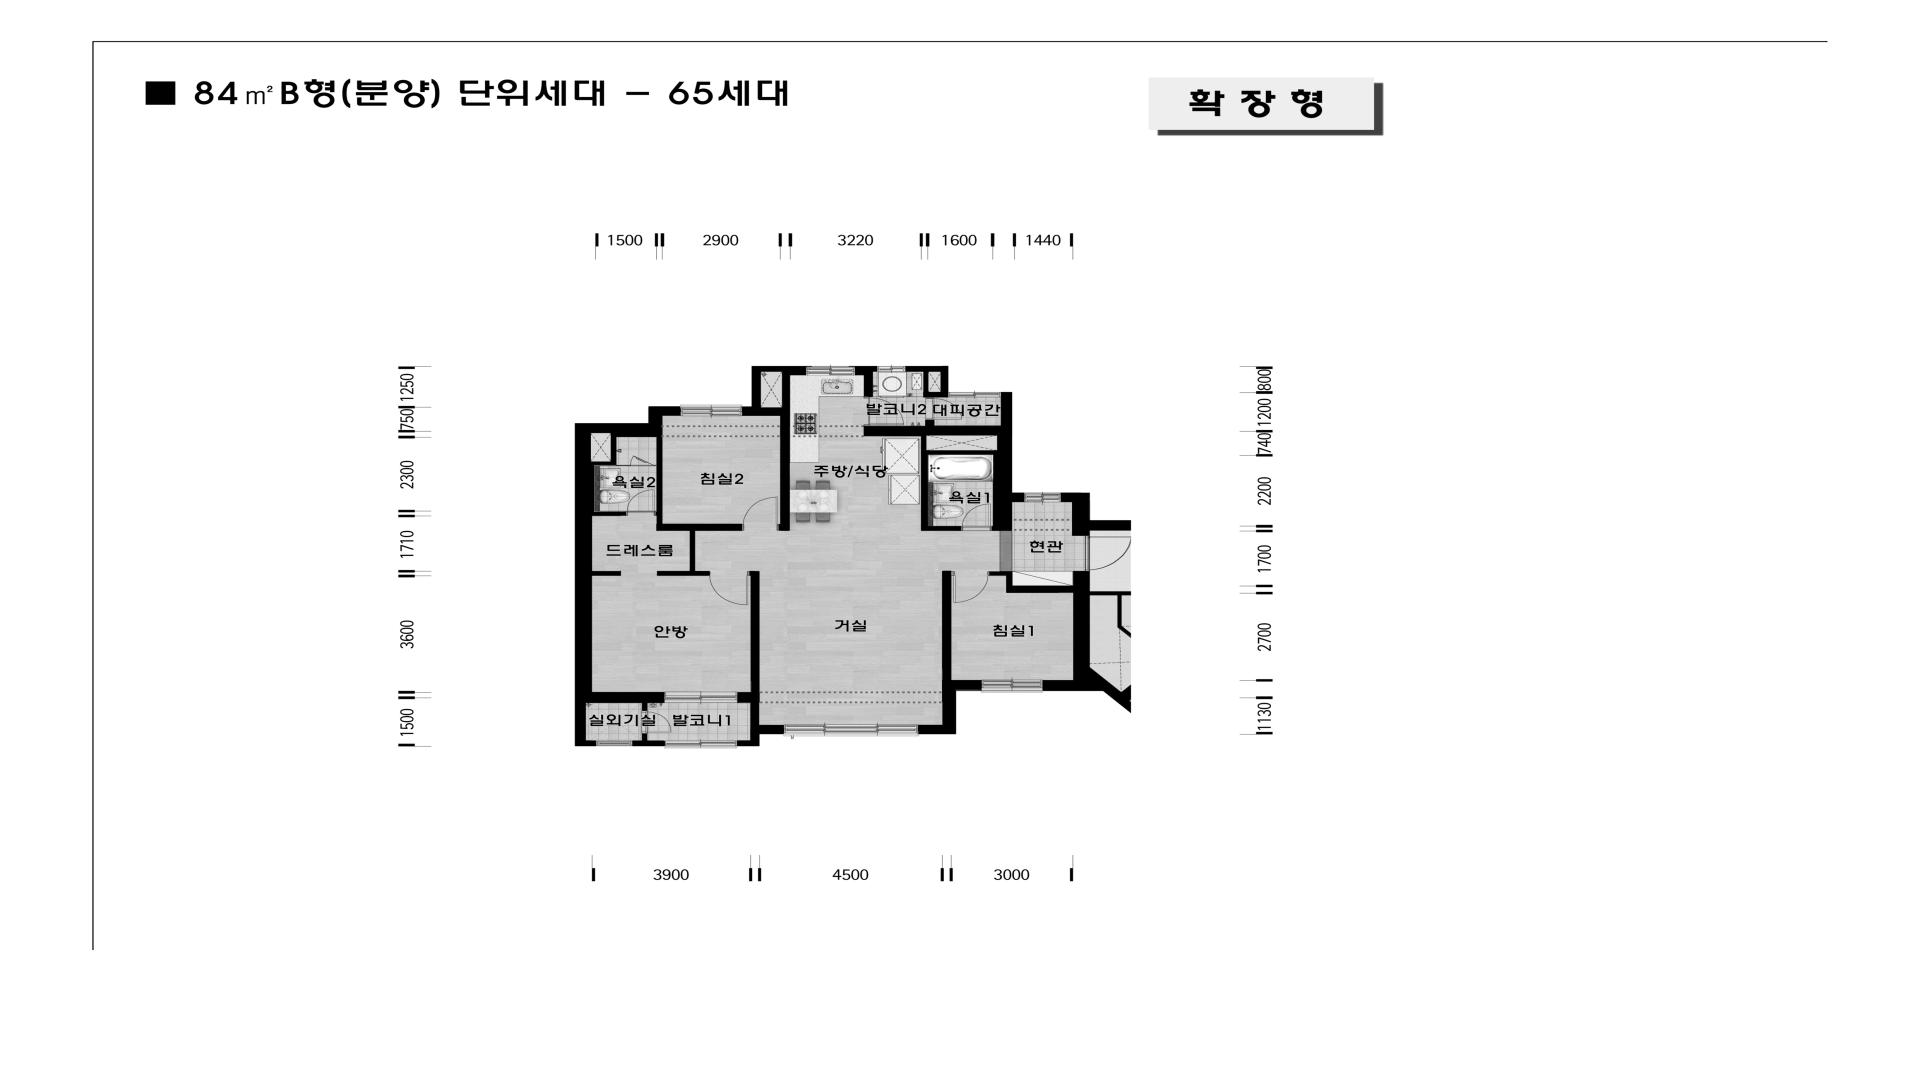door: (1085, 536, 1131, 571), (710, 571, 750, 605), (742, 497, 779, 531), (951, 571, 989, 603), (864, 397, 904, 426), (961, 503, 992, 531), (925, 398, 962, 420), (626, 489, 656, 516), (641, 711, 671, 734), (630, 455, 656, 466)
wall: (575, 433, 586, 746), (584, 433, 592, 692), (1073, 571, 1090, 691), (864, 425, 1001, 436), (1000, 392, 1012, 502), (779, 416, 790, 531), (750, 571, 760, 692), (942, 571, 951, 680), (575, 423, 663, 433), (586, 692, 664, 703), (1072, 502, 1090, 536), (992, 455, 1000, 531), (942, 691, 956, 734), (657, 437, 663, 531), (663, 524, 742, 531), (921, 455, 928, 531), (1013, 585, 1073, 593), (752, 366, 761, 416), (942, 680, 982, 691), (921, 450, 1000, 455), (1000, 502, 1012, 531), (1043, 680, 1073, 691), (750, 725, 784, 734), (782, 372, 790, 407), (761, 366, 806, 372), (657, 571, 710, 576), (905, 366, 949, 372), (761, 407, 790, 416), (1061, 493, 1090, 502), (648, 406, 663, 423), (737, 692, 760, 703), (940, 372, 949, 397), (918, 725, 942, 734), (611, 433, 663, 437), (690, 531, 695, 571), (750, 703, 759, 725), (864, 375, 873, 397), (632, 740, 664, 746), (663, 406, 680, 416), (611, 437, 617, 465), (928, 526, 961, 531), (591, 465, 594, 516), (592, 571, 621, 576), (855, 366, 877, 372), (594, 512, 626, 516), (923, 372, 928, 397), (989, 571, 1013, 576), (750, 734, 760, 746), (1006, 576, 1013, 593), (1012, 493, 1024, 502), (742, 406, 752, 416), (921, 436, 927, 450), (591, 461, 611, 465), (737, 740, 750, 746), (928, 392, 940, 397), (925, 420, 935, 426), (586, 740, 596, 746), (997, 436, 1001, 450), (855, 372, 873, 375), (642, 703, 648, 711), (790, 372, 806, 375), (642, 734, 647, 740), (616, 465, 630, 466)
window: (784, 724, 918, 734), (664, 692, 738, 703), (982, 680, 1043, 691), (680, 406, 742, 416), (806, 366, 855, 375), (664, 741, 737, 746), (1024, 493, 1061, 502), (948, 392, 1001, 397), (596, 741, 632, 746), (877, 366, 905, 372)
